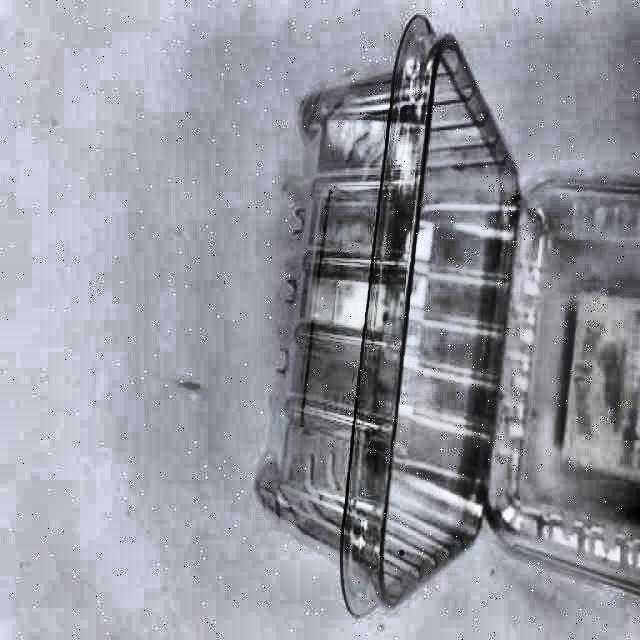plastic: (254, 16, 640, 619)
